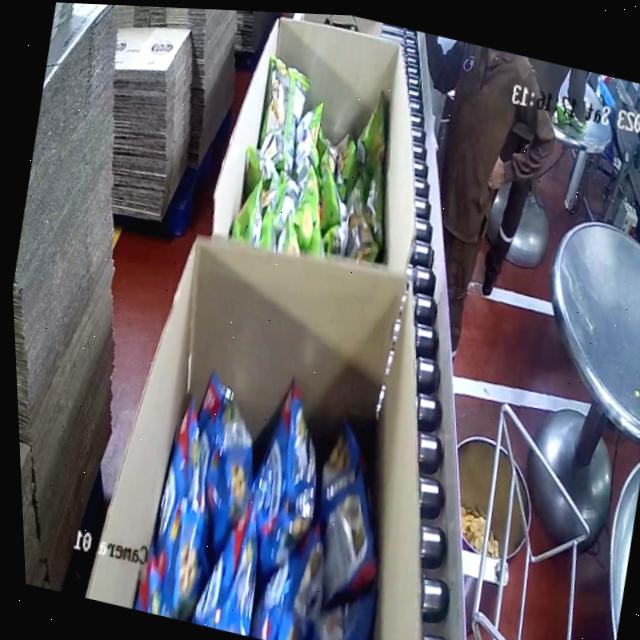PAPRIKA: (129, 350, 414, 640)
